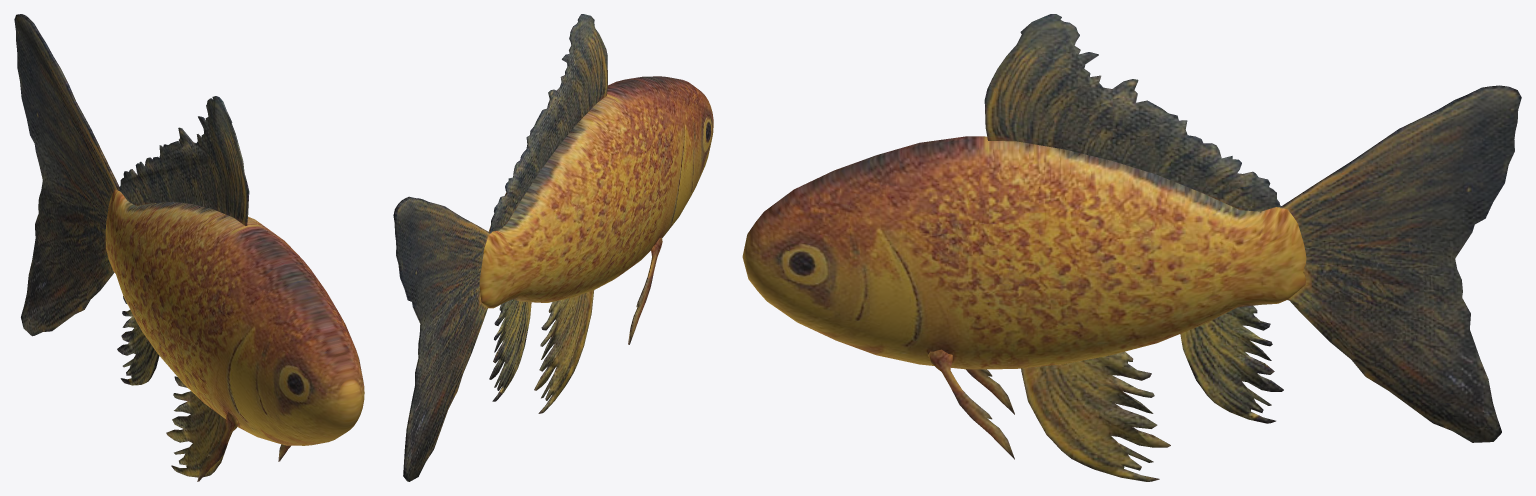
The model's file is Beachnice_B.glb.
The picture shows the model from 3 angles, left to right: view 1: azimuth 30°, elevation 25°; view 2: azimuth 150°, elevation 25°; view 3: azimuth 270°, elevation 25°; orthographic projection. The views are drawn at different scales.
Parts seen in each view (by area): view 1: Sphere.001; view 2: Sphere.001; view 3: Sphere.001.
Boxes of the visible parts, <box> form: Sphere.001: <box>14,14,364,481</box>; Sphere.001: <box>393,14,713,481</box>; Sphere.001: <box>742,14,1521,481</box>.
Size of the model in its own units: 11.81 by 42.81 by 64.7.
Materials: 2 (1 with a texture image).
